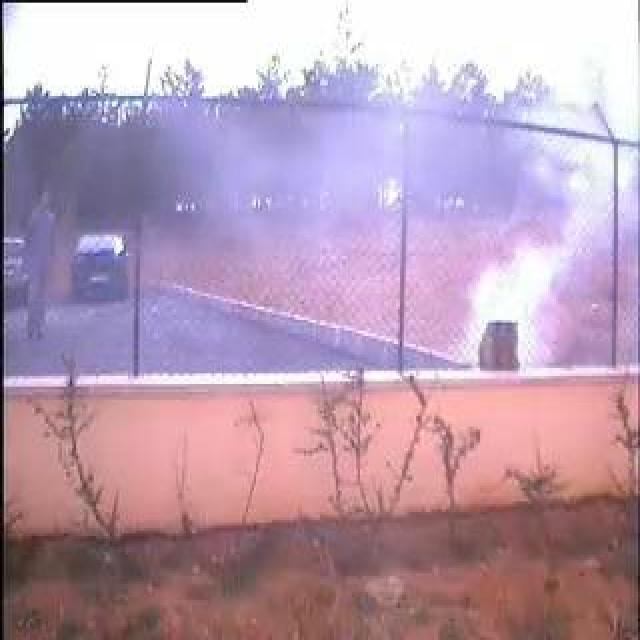Smoke: (450, 115, 620, 368)
